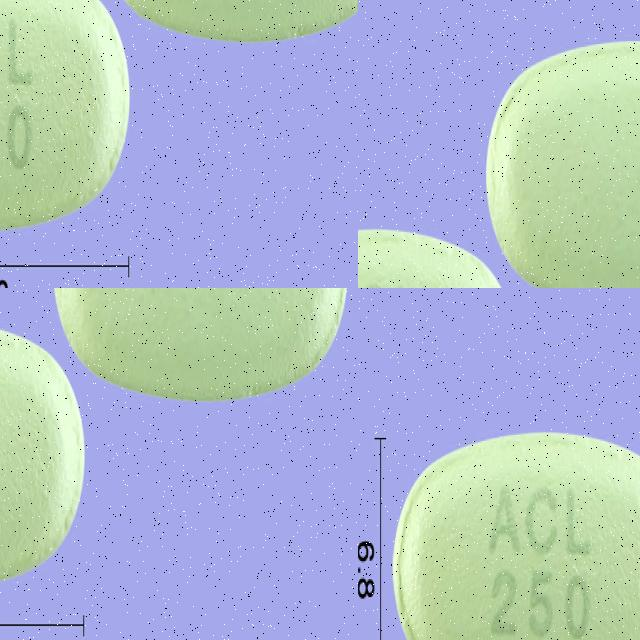Auscle - 500mg: (0, 413, 126, 640)
Ciquroby: (114, 0, 358, 235), (0, 0, 88, 238)
Ciracle: (549, 183, 640, 288), (358, 186, 427, 288)
Clorid: (391, 433, 640, 640)
